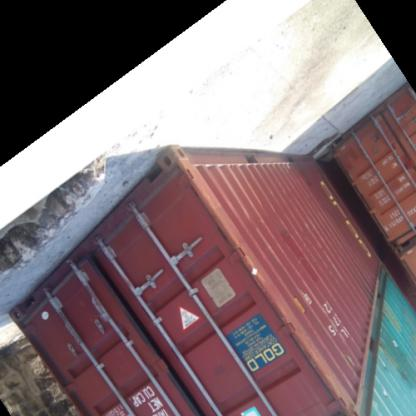Damage: (284, 324, 346, 412), (242, 254, 284, 324)
